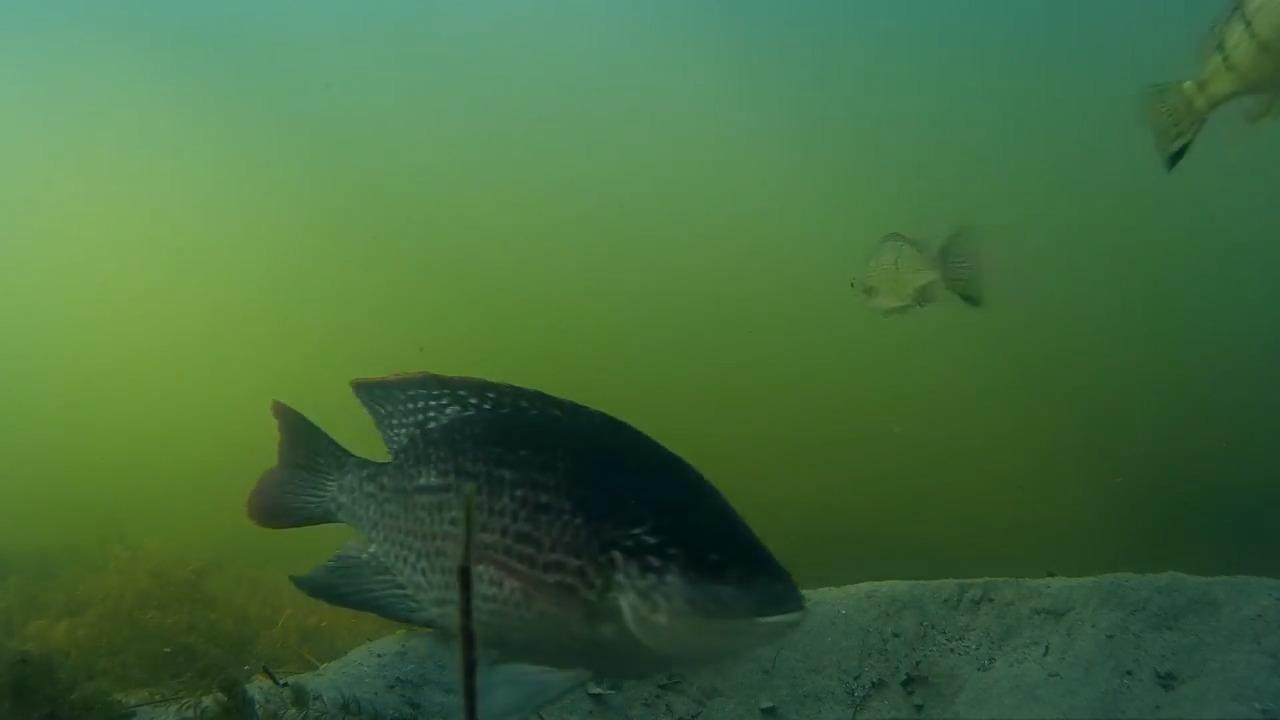Tilapia: (240, 360, 805, 692), (1129, 4, 1280, 184), (825, 222, 986, 322)
